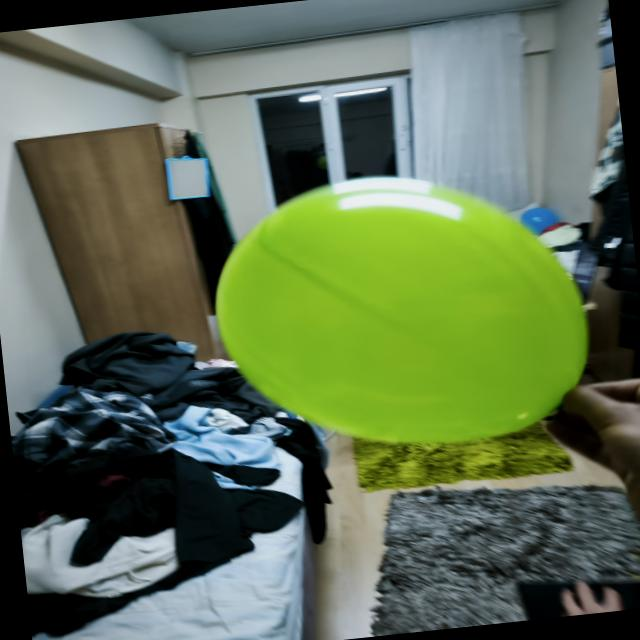balloon: (217, 176, 588, 442)
